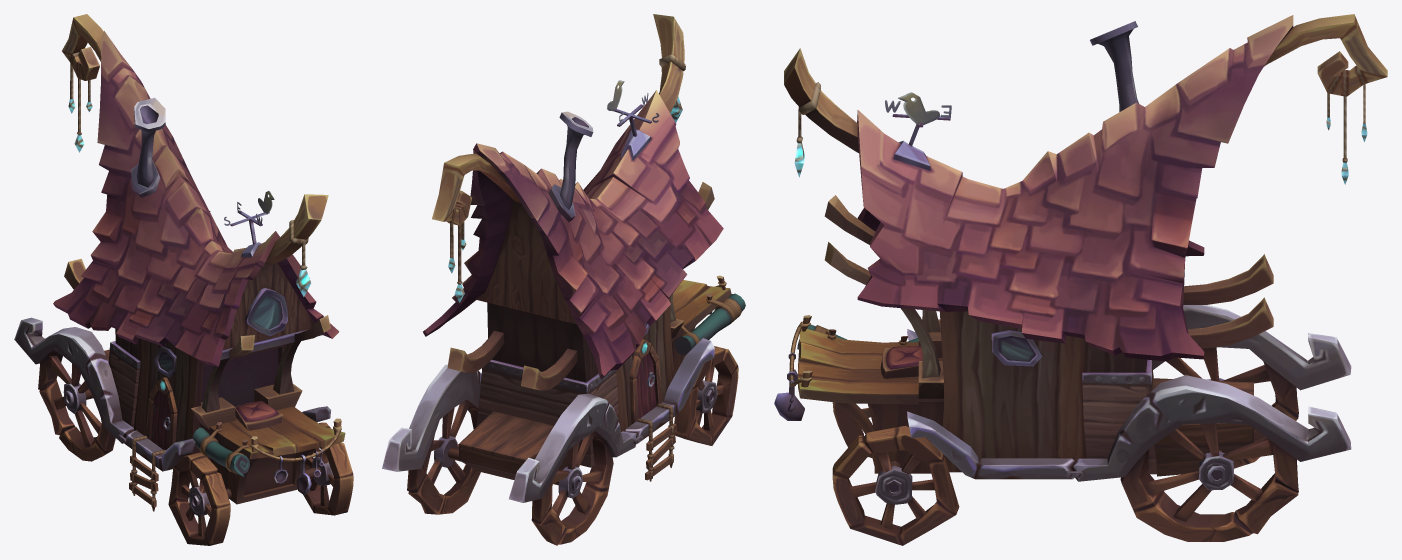
The model's file is stylized_wagon.glb.
3 renders of one model, left to right at view 1: azimuth 30°, elevation 25°; view 2: azimuth 150°, elevation 25°; view 3: azimuth 270°, elevation 25°, orthographic. The views are drawn at different scales.
Parts seen in each view (by area): view 1: WagonBase; view 2: WagonBase; view 3: WagonBase, WagonAlfa.
Part boxes in pixels (x1,y1,x2,y2): WagonBase: (14, 14, 353, 545); WagonBase: (382, 14, 745, 545); WagonBase: (774, 14, 1387, 545); WagonAlfa: (885, 92, 951, 124).
Size of the model in its own units: 1.38 by 2.91 by 3.32.
2 materials, 2 textured.
